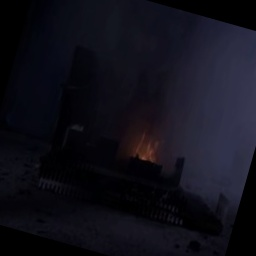fire: (110, 118, 177, 190)
smoke: (11, 0, 256, 149)
